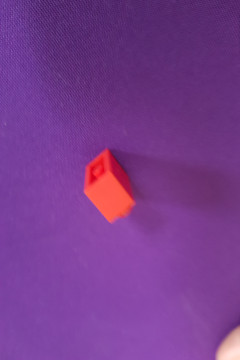1x2 red: (83, 148, 137, 225)
